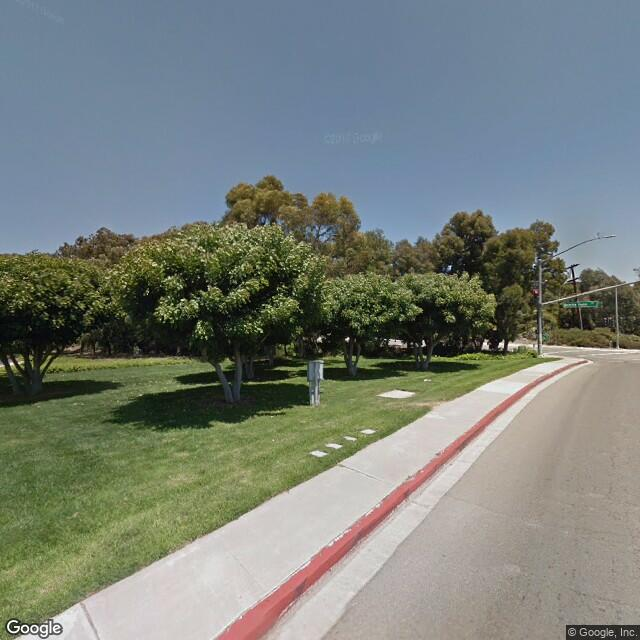litter: (422, 377, 432, 383)
